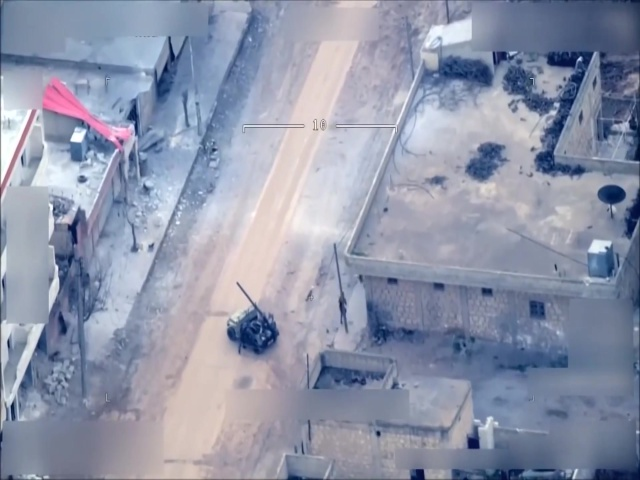vehicle: (223, 306, 280, 354)
